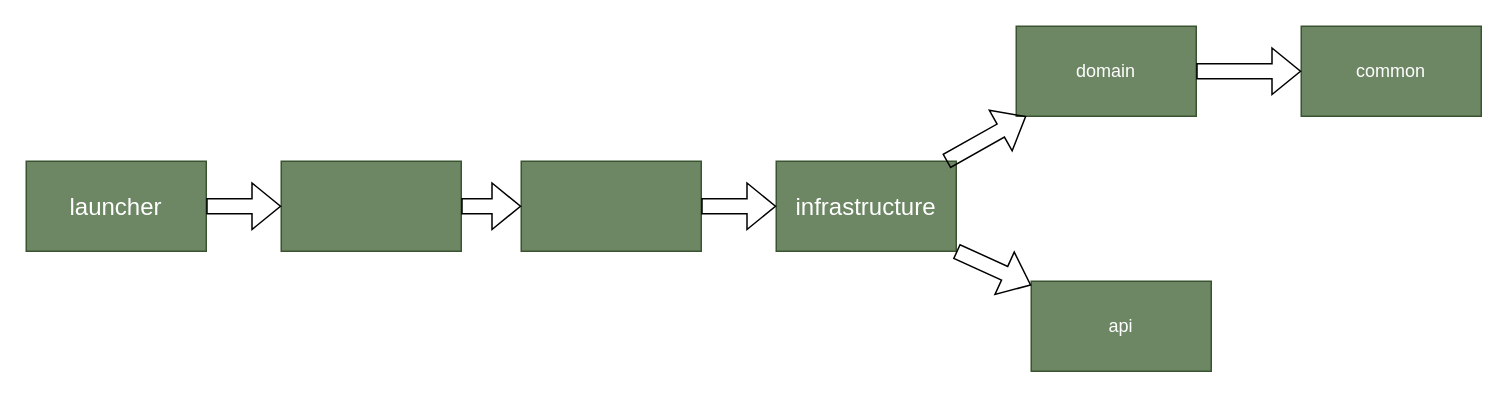
The diagram is 1508 pixels wide and 398 high, and some of its shapes have lost their labels. Each missing label, with the box of its shape:
application: (520, 160, 701, 251)
trigger: (280, 160, 461, 251)
